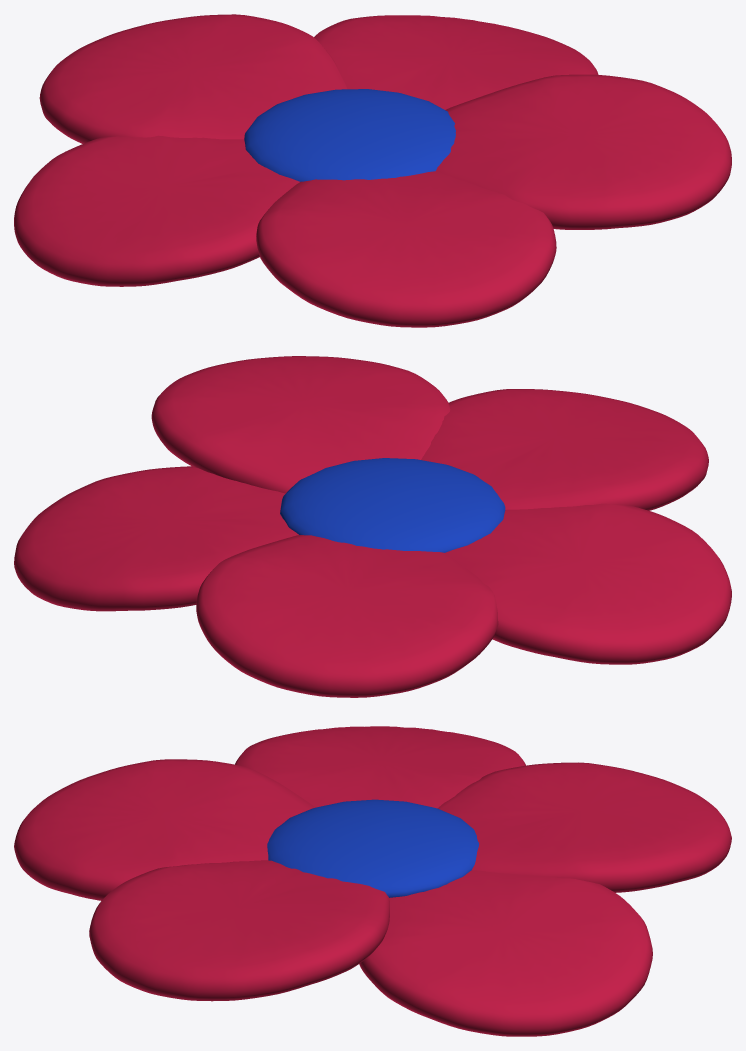
Rendered from flower1.fbx.
3 views of the same model, one above another, from view 1: azimuth 30°, elevation 25°; view 2: azimuth 150°, elevation 25°; view 3: azimuth 270°, elevation 25° (orthographic). The views are drawn at different scales.
Parts seen in each view (by area): view 1: polySurface3; view 2: polySurface3; view 3: polySurface3.
Boxes of the visible parts, x1,y1,x2,y2 form: polySurface3: (14, 14, 731, 327); polySurface3: (14, 356, 731, 697); polySurface3: (14, 726, 731, 1036).
Size of the model in its own units: 4.62 by 0.55 by 4.77.
